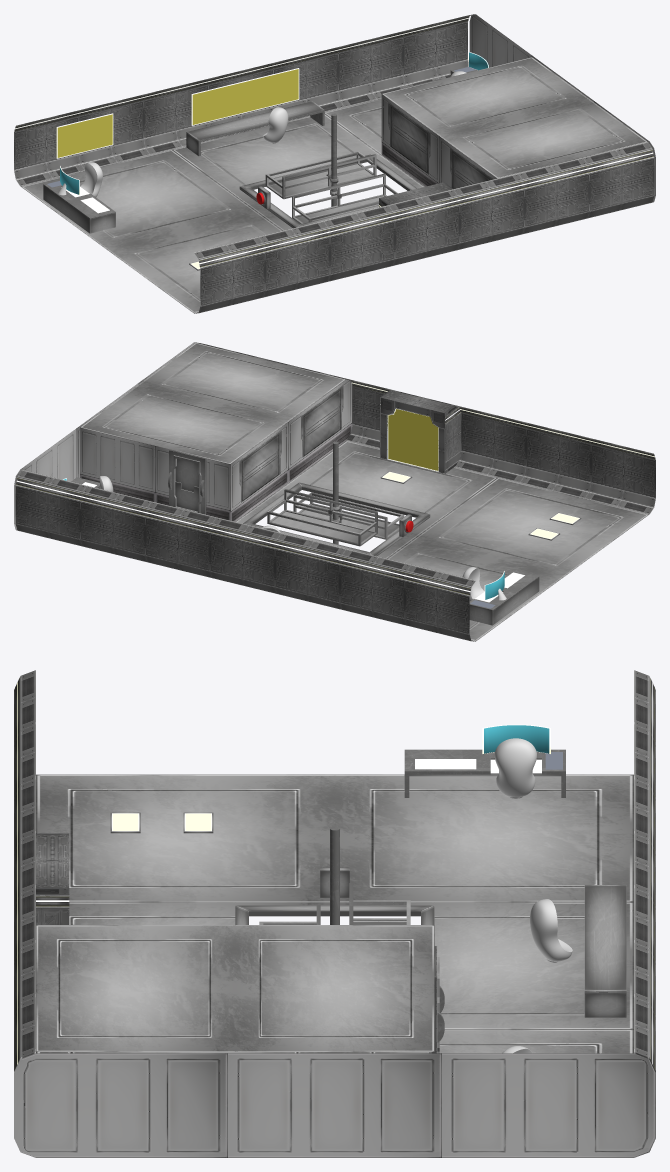
Rendered from BigRoom_1Floor.fbx.
The picture shows the model from 3 angles, top to bottom: view 1: azimuth 30°, elevation 25°; view 2: azimuth 150°, elevation 25°; view 3: azimuth 270°, elevation 25°; orthographic projection. The views are drawn at different scales.
Visible parts, largest first — view 1: Parede.005, Parede.006, Cabine, Chao.005, Chao.004, PainelLuminoso, Elevador2.001, Parede.007, Mesa.007, Mesa.004, PainelLuminoso.001, Elevador1.001 (+8 smaller); view 2: Parede.006, Cabine, Chao.005, Parede.005, Chao.004, Porta.002, Elevador2.001, PortaHolograma.001, Parede.007, Ornamento.001, Mesa.007, Janela.002 (+6 smaller); view 3: Chao.005, Parede.007, Cabine, Chao.004, Parede.005, Parede.006, Mesa.004, Chao, Mesa.007, Porta.002, Ornamento.001, Cadeira.004 (+4 smaller).
Boxes of the visible parts, <box> form: Parede.005: <box>194,142,654,313</box>; Parede.006: <box>14,15,472,186</box>; Cabine: <box>381,57,647,187</box>; Chao.005: <box>21,149,282,313</box>; Chao.004: <box>172,114,424,230</box>; PainelLuminoso: <box>191,68,299,125</box>; Elevador2.001: <box>265,152,376,199</box>; Parede.007: <box>469,14,655,202</box>; Mesa.007: <box>43,180,115,233</box>; Mesa.004: <box>186,101,324,156</box>; PainelLuminoso.001: <box>56,113,113,158</box>; Elevador1.001: <box>292,173,397,223</box>; Parede.006: <box>15,470,475,641</box>; Cabine: <box>80,343,352,521</box>; Chao.005: <box>387,477,648,641</box>; Parede.005: <box>197,343,655,514</box>; Chao.004: <box>236,440,497,558</box>; Porta.002: <box>380,390,461,473</box>; Elevador2.001: <box>267,489,377,546</box>; PortaHolograma.001: <box>387,408,438,471</box>; Parede.007: <box>14,342,198,530</box>; Ornamento.001: <box>243,482,430,556</box>; Mesa.007: <box>469,569,539,625</box>; Janela.002: <box>301,385,343,457</box>; Chao.005: <box>36,774,633,901</box>; Parede.007: <box>14,1053,655,1157</box>; Cabine: <box>36,925,434,1051</box>; Chao.004: <box>69,902,633,1029</box>; Parede.005: <box>14,670,35,1072</box>; Parede.006: <box>634,670,655,1072</box>; Mesa.004: <box>584,885,626,1017</box>; Chao: <box>36,1029,633,1053</box>; Mesa.007: <box>404,749,565,797</box>; Porta.002: <box>36,833,69,924</box>; Ornamento.001: <box>235,905,434,924</box>; Cadeira.004: <box>494,738,536,798</box>.
Bounding box in the file's own units: 3969 × 1157 × 2810.
